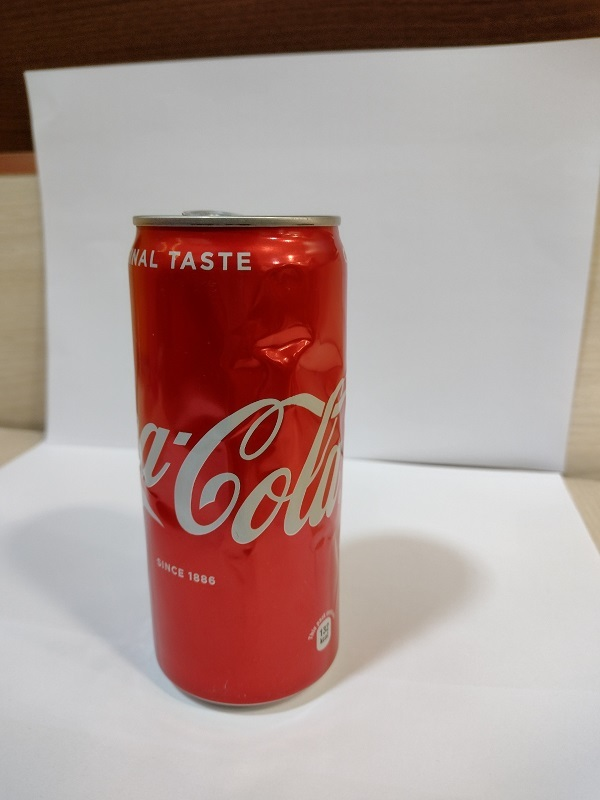can: (103, 190, 369, 725)
